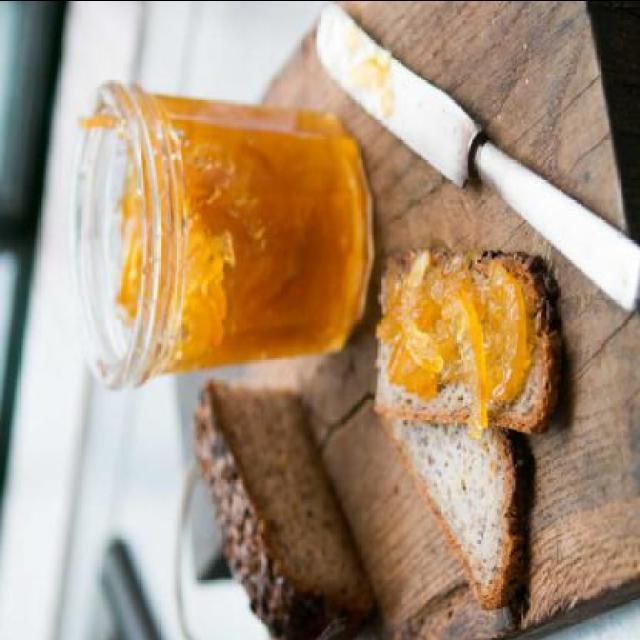Spread: (380, 252, 528, 416)
